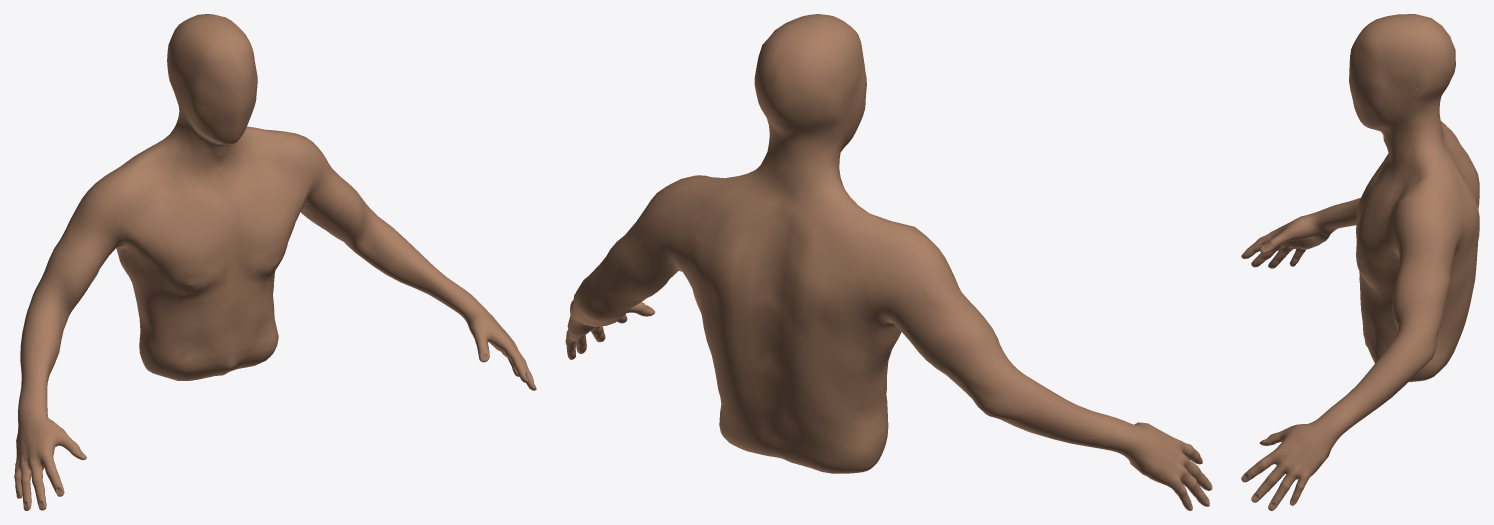
The model's file is monster2.FBX.
3 renders of one model, left to right at view 1: azimuth 30°, elevation 25°; view 2: azimuth 150°, elevation 25°; view 3: azimuth 270°, elevation 25°, orthographic. The views are drawn at different scales.
Visible parts, largest first — view 1: monsterMesh; view 2: monsterMesh; view 3: monsterMesh.
Part boxes in pixels (x1,y1,x2,y2): monsterMesh: [14, 14, 536, 510]; monsterMesh: [565, 14, 1212, 510]; monsterMesh: [1241, 14, 1479, 510].
Size of the model in its own units: 43.34 by 30.75 by 17.9.
